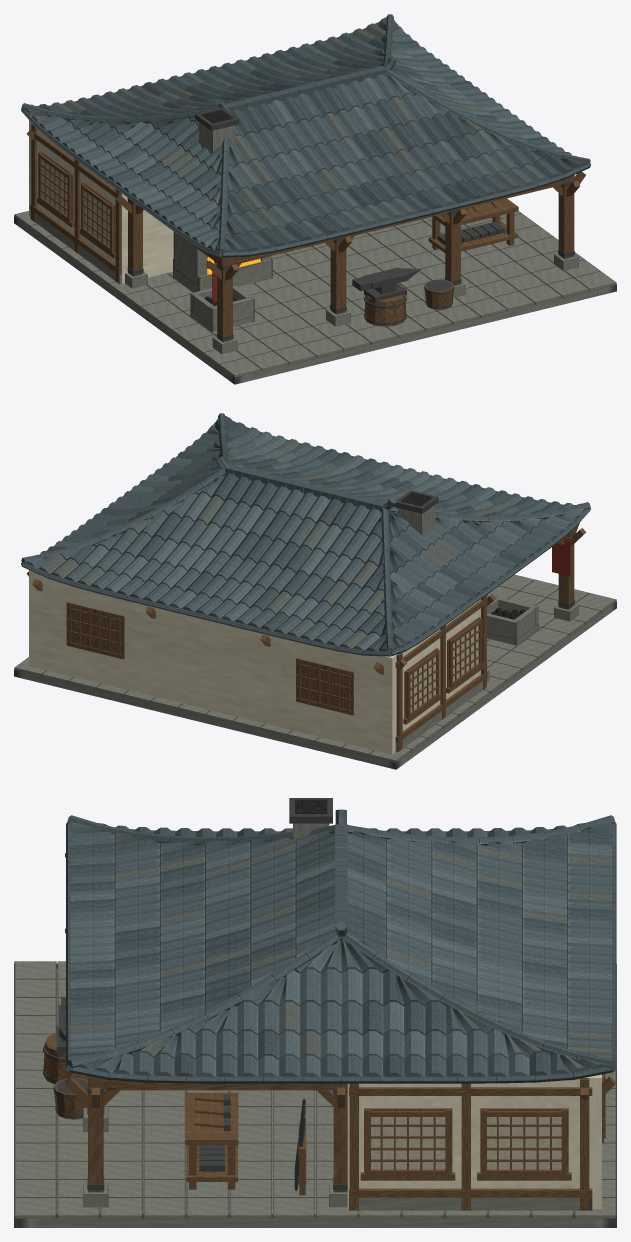
The model's file is building_forge.glb.
3 views of the same model, one above another, from view 1: azimuth 30°, elevation 25°; view 2: azimuth 150°, elevation 25°; view 3: azimuth 270°, elevation 25° (orthographic). The views are drawn at different scales.
Visible parts, largest first — view 1: Forge_main_roof_rolled_tiles, Flagstone_paving, Forge_main_roof_rolled_tiles.002, Forge_main_roof_rolled_tiles.001, Forge_main_roof_rolled_tiles.003, Canopy_timber_posts, Foundation, Forge_main_roof_eave_trim, Forge_main_roof_hip_caps, Workshop_side_timbers, Workshop_front_wall, Forge_main_roof_tile_overlap_lips (+22 smaller); view 2: Forge_main_roof_rolled_tiles, Workshop_rear_wall, Forge_main_roof_rolled_tiles.002, Forge_main_roof_rolled_tiles.001, Flagstone_paving, Forge_main_roof_rolled_tiles.003, Foundation, Rear_lattice_recess, Forge_main_roof_hip_caps, Forge_main_roof_eave_trim, Workshop_side_timbers, Forge_main_roof_tile_overlap_lips (+14 smaller); view 3: Forge_main_roof_rolled_tiles, Flagstone_paving, Forge_main_roof_rolled_tiles.002, Forge_main_roof_rolled_tiles.001, Forge_main_roof_rolled_tiles.003, Forge_main_roof_hip_caps, Workshop_side_wall, Workshop_side_timbers, Foundation, Forge_main_roof_eave_trim, Warm_paper_panels, Window_frames (+19 smaller).
Boxes of the visible parts, bbox=[...] form: Forge_main_roof_rolled_tiles: bbox=[26, 17, 575, 251]; Flagstone_paving: bbox=[14, 211, 616, 377]; Forge_main_roof_rolled_tiles.002: bbox=[50, 26, 547, 249]; Forge_main_roof_rolled_tiles.001: bbox=[31, 37, 583, 251]; Forge_main_roof_rolled_tiles.003: bbox=[34, 23, 521, 236]; Canopy_timber_posts: bbox=[128, 175, 574, 342]; Foundation: bbox=[14, 216, 616, 384]; Forge_main_roof_eave_trim: bbox=[21, 21, 591, 257]; Forge_main_roof_hip_caps: bbox=[21, 14, 590, 254]; Workshop_side_timbers: bbox=[30, 123, 121, 283]; Workshop_front_wall: bbox=[121, 193, 173, 283]; Forge_main_roof_tile_overlap_lips: bbox=[26, 95, 561, 252]; Forge_main_roof_rolled_tiles: bbox=[28, 425, 580, 648]; Workshop_rear_wall: bbox=[29, 570, 396, 754]; Forge_main_roof_rolled_tiles.002: bbox=[36, 431, 585, 650]; Forge_main_roof_rolled_tiles.001: bbox=[47, 416, 561, 650]; Flagstone_paving: bbox=[14, 574, 616, 762]; Forge_main_roof_rolled_tiles.003: bbox=[38, 439, 505, 648]; Foundation: bbox=[14, 601, 616, 769]; Rear_lattice_recess: bbox=[66, 602, 353, 715]; Forge_main_roof_hip_caps: bbox=[21, 413, 590, 653]; Forge_main_roof_eave_trim: bbox=[21, 421, 590, 656]; Workshop_side_timbers: bbox=[395, 595, 487, 751]; Forge_main_roof_tile_overlap_lips: bbox=[26, 491, 579, 649]; Forge_main_roof_rolled_tiles: bbox=[70, 821, 612, 1076]; Flagstone_paving: bbox=[14, 961, 616, 1218]; Forge_main_roof_rolled_tiles.002: bbox=[70, 825, 612, 1076]; Forge_main_roof_rolled_tiles.001: bbox=[70, 821, 612, 1076]; Forge_main_roof_rolled_tiles.003: bbox=[70, 823, 612, 1058]; Forge_main_roof_hip_caps: bbox=[67, 815, 615, 1068]; Workshop_side_wall: bbox=[360, 1077, 588, 1188]; Workshop_side_timbers: bbox=[349, 1078, 592, 1210]; Foundation: bbox=[14, 963, 616, 1227]; Forge_main_roof_eave_trim: bbox=[66, 822, 616, 1083]; Warm_paper_panels: bbox=[371, 1117, 561, 1169]; Window_frames: bbox=[365, 1109, 566, 1176].
Size of the model in its own units: 14 by 6.01 by 14.
Materials: 12 (12 with a texture image).
